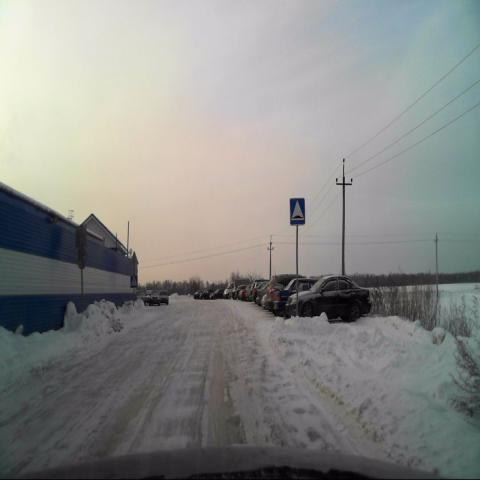5_20: (289, 196, 305, 224)
